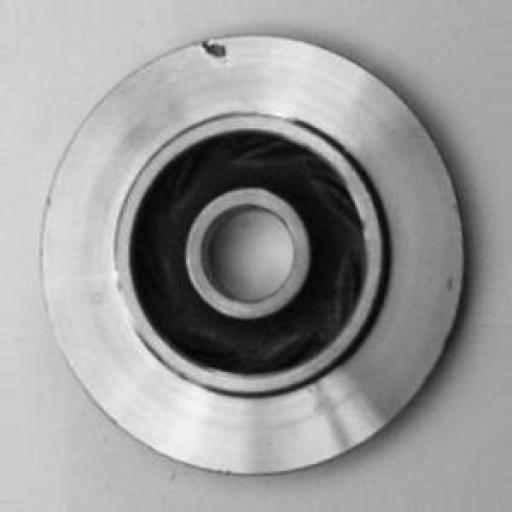defect: (156, 32, 258, 82)
